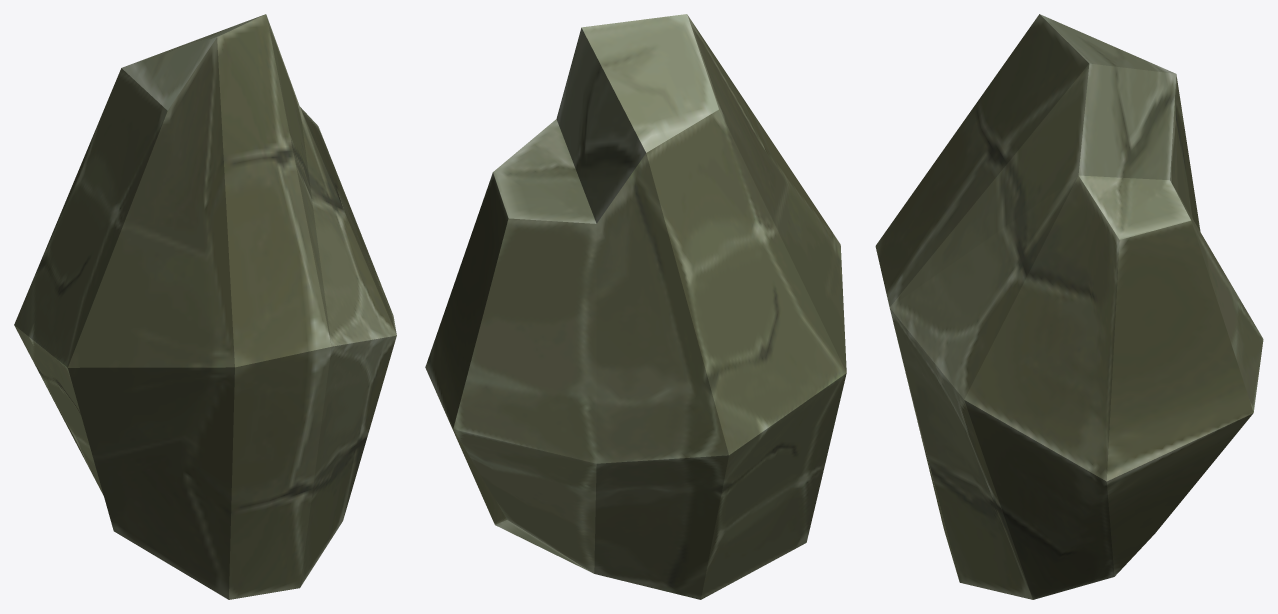
File: eff_stone_03.FBX
3 views of the same model, side by side, from view 1: azimuth 30°, elevation 25°; view 2: azimuth 150°, elevation 25°; view 3: azimuth 270°, elevation 25° (orthographic). The views are drawn at different scales.
Parts seen in each view (by area): view 1: eff_stone_03; view 2: eff_stone_03; view 3: eff_stone_03.
Boxes of the visible parts, box(x1,y1,x2,y2) form: eff_stone_03: box(14, 14, 396, 599); eff_stone_03: box(425, 14, 846, 599); eff_stone_03: box(875, 14, 1263, 599).
Bounding box in the file's own units: 121 × 172 × 111.
